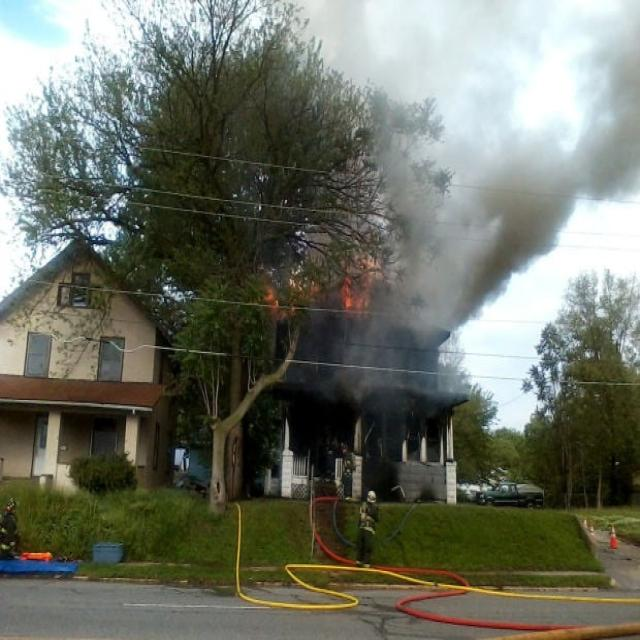smoke: (401, 141, 546, 277), (338, 2, 522, 96), (363, 302, 461, 391)
